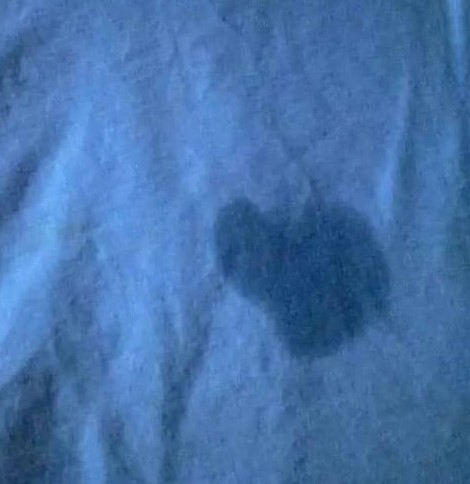stain: (212, 193, 404, 370)
